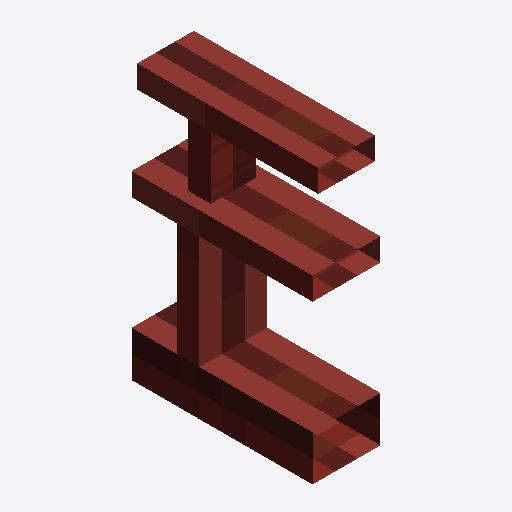
Isometric view (azimuth 45°, elevation 35.3°) of a Minecraft model made of 5 cuboids, textured from the same repository.
Visible parts, largest first — element 5, element 1, element 3, element 4, element 2.
Part boxes in pixels (x1,y1,x2,y2): element 5: (132,302,379,483); element 1: (137,31,374,193); element 3: (132,139,379,301); element 4: (177,224,266,366); element 2: (188,119,255,203).
Size of the model in its own units: 3 by 12 by 8.